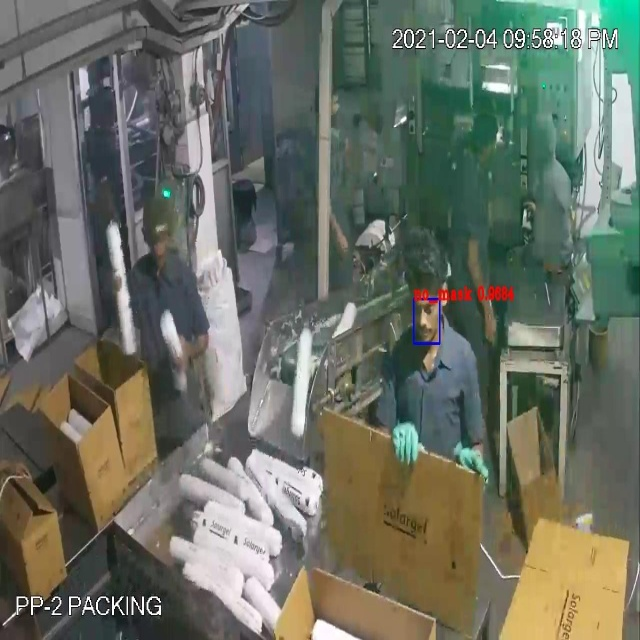Guantes: (451, 425, 494, 496), (388, 418, 430, 490)
Sin_guantes: (463, 220, 503, 360), (160, 305, 214, 372), (316, 187, 348, 260), (0, 455, 35, 497)
